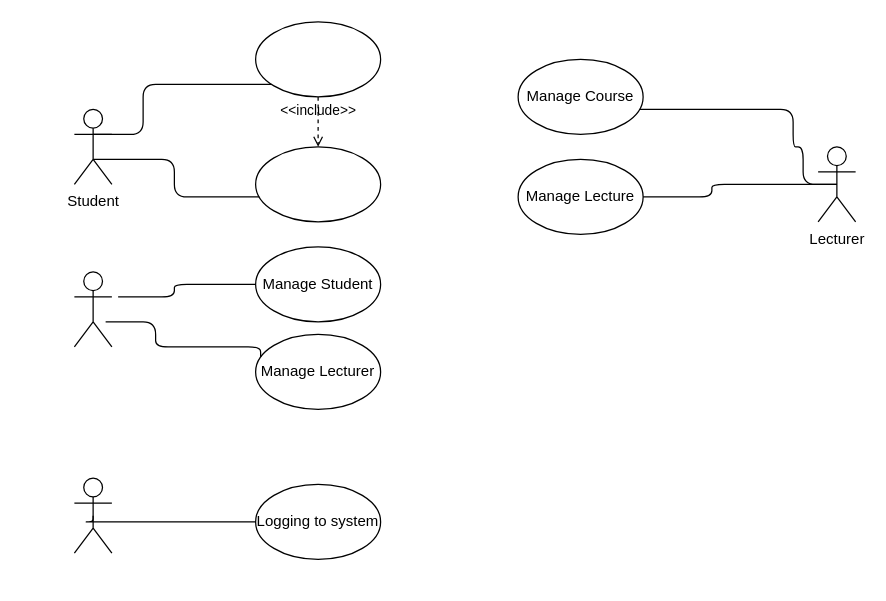
Image size: 886x601. Some labels were removed from this diagram. The centre of each missing label's shape, as x and y in pixels:
"Administrator" goes at point (92, 309).
"Enroll to Course" goes at point (317, 59).
"Enroll to Lecture" goes at point (317, 184).
"Unauthenticated user" goes at point (92, 515).
